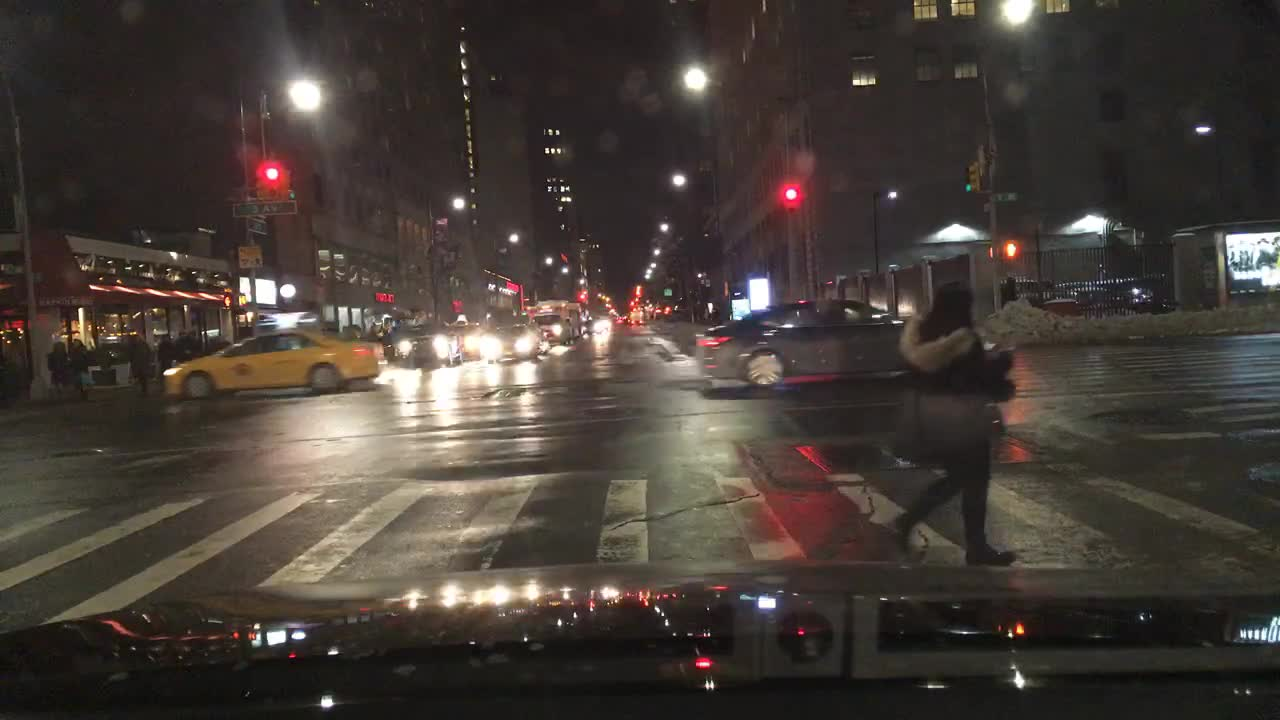bus: (539, 297, 577, 342)
car: (694, 295, 911, 389), (161, 328, 386, 396), (390, 322, 462, 366), (475, 320, 548, 361), (447, 312, 485, 361), (530, 309, 570, 343), (1106, 279, 1156, 306), (997, 272, 1041, 300), (1069, 280, 1106, 309), (1041, 279, 1075, 303), (689, 285, 706, 326), (661, 298, 689, 321), (591, 315, 612, 332), (582, 309, 594, 335), (628, 306, 643, 325)
person: (888, 277, 1019, 566), (123, 329, 155, 398), (46, 340, 71, 406), (66, 334, 89, 399), (155, 324, 175, 373), (173, 328, 190, 364), (187, 321, 201, 355), (704, 301, 719, 329)
traffic light: (963, 162, 983, 196), (781, 180, 804, 209), (260, 162, 286, 184), (1003, 237, 1019, 260), (984, 240, 995, 262), (573, 288, 588, 301)
traffic sign: (233, 197, 296, 216), (242, 213, 271, 236), (992, 190, 1022, 203), (661, 283, 674, 295)
